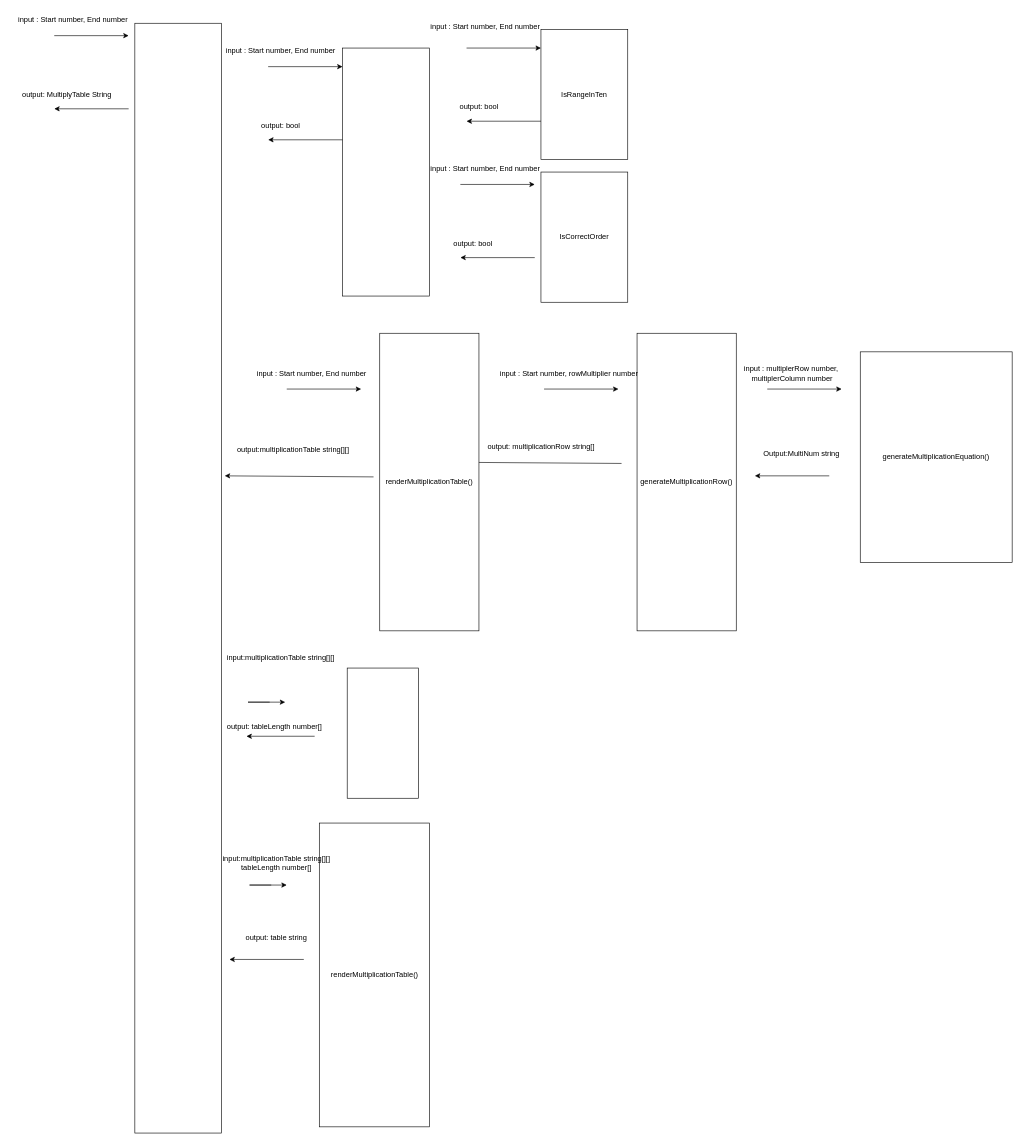
Image size: 1023x1144. Some labels were removed from this diagram. The box of each missing label's shape, as (x1, y1, x2, y2) in pixels:
calculateLength(): (347, 667, 418, 798)
IsValid: (342, 47, 429, 296)
render(): (134, 23, 222, 1133)
